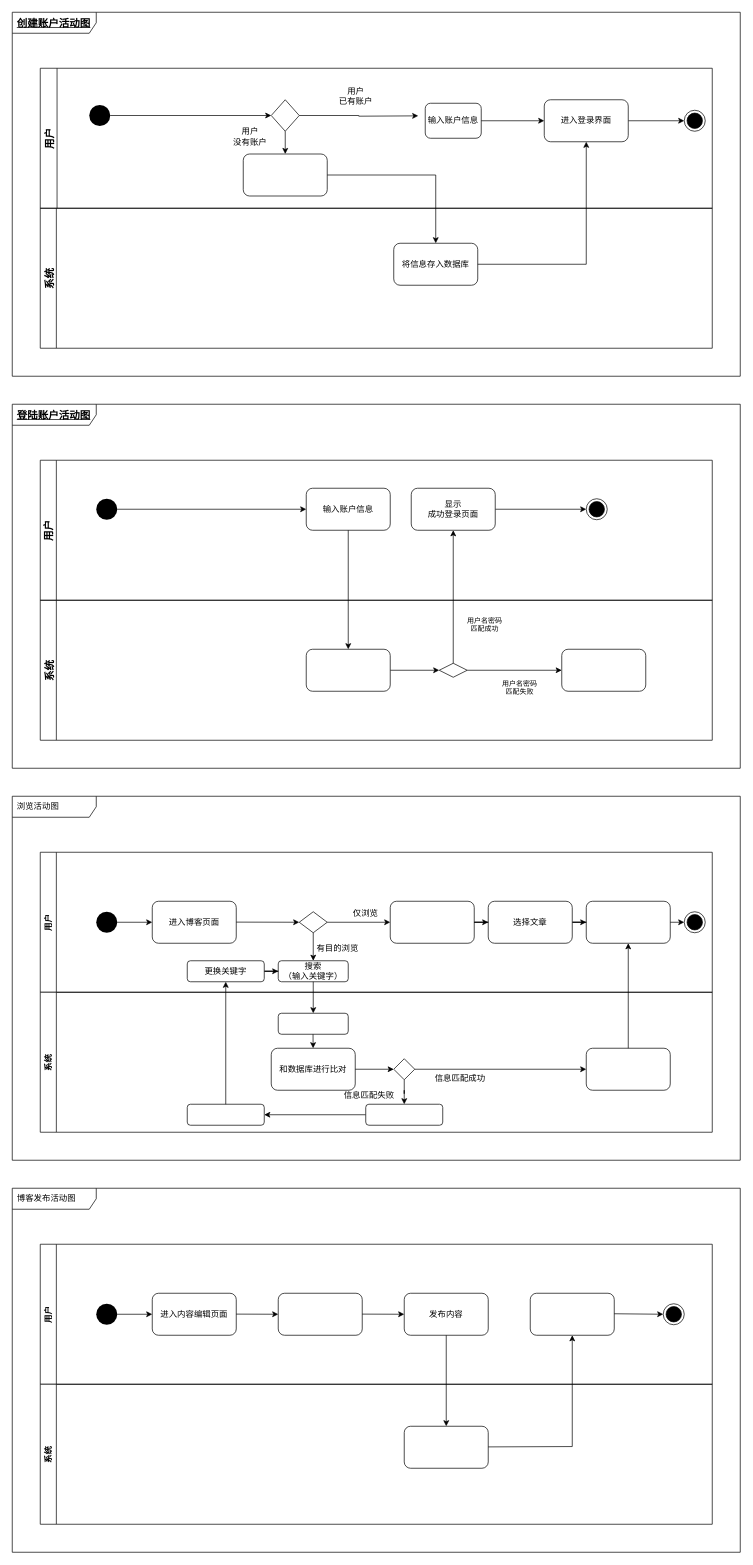
The diagram is 753 pixels wide and 1565 high, and some of its shapes have lost their labels. Each missing label, with the centre of its shape:
匹配用户名 和密码: the point at 348,670
博客内容 添加到数据库: the point at 446,1447
接收关键字: the point at 313,1023
提示用户 更换关键字: the point at 225,1114
文章选择列表: the point at 432,922
显示上传成功界面: the point at 572,1314
注册新账户: the point at 285,174
浏览文章: the point at 628,922
登录失败: the point at 603,670
编辑内容: the point at 320,1314
返回 未找到关键字信息: the point at 404,1114
返回文章给用户: the point at 628,1069
